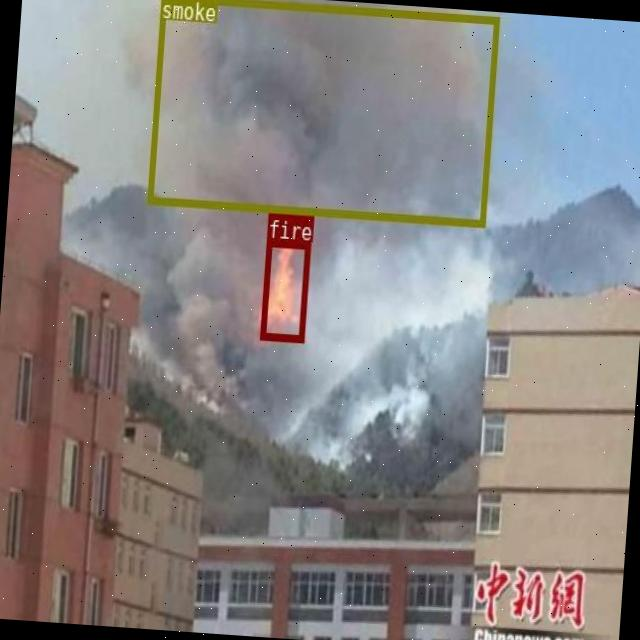fire: (258, 237, 308, 340)
smoke: (146, 0, 498, 225)
